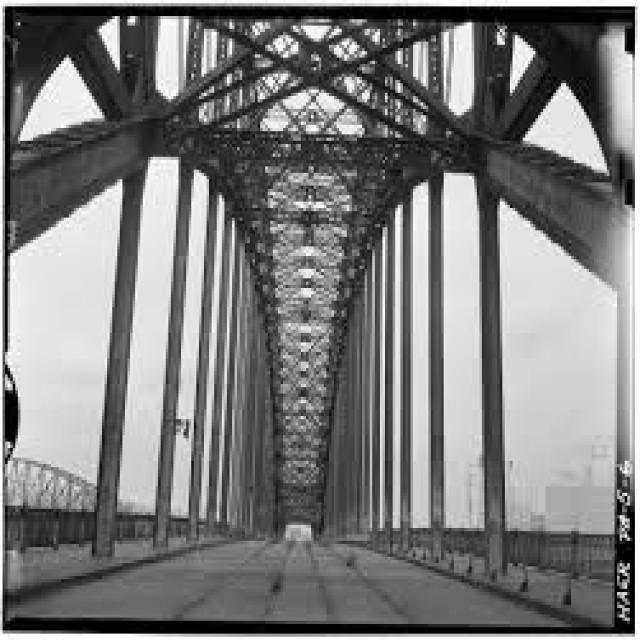Bridges: (42, 17, 614, 610)
